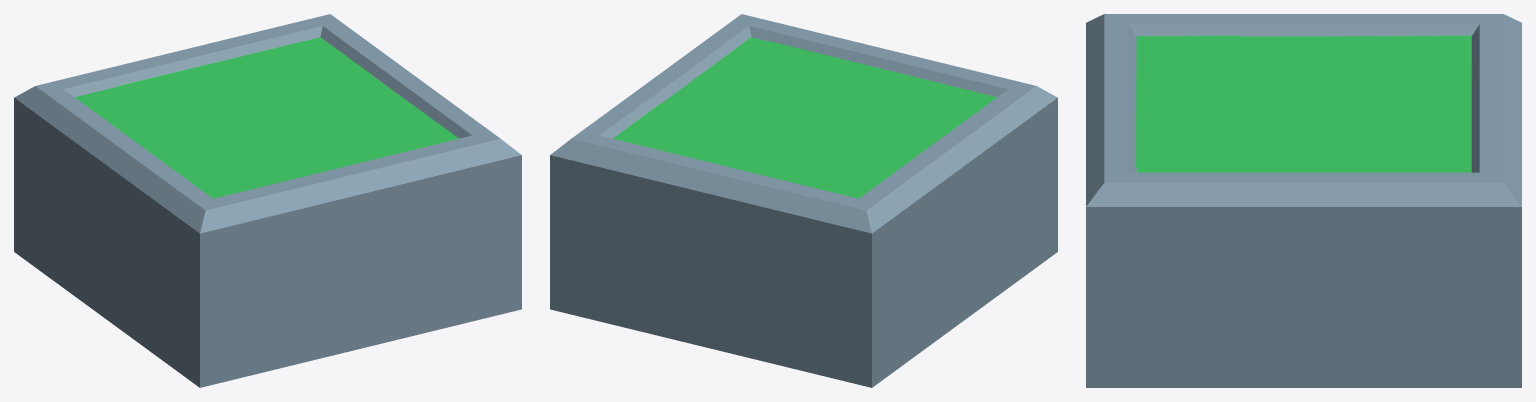
The model's file is BasicTile.fbx.
The picture shows the model from 3 angles, left to right: view 1: azimuth 30°, elevation 25°; view 2: azimuth 150°, elevation 25°; view 3: azimuth 270°, elevation 25°; orthographic projection. The views are drawn at different scales.
Parts seen in each view (by area): view 1: Cube; view 2: Cube; view 3: Cube.
Part boxes in pixels (x1,y1,x2,y2): Cube: [14, 14, 521, 387]; Cube: [550, 14, 1057, 387]; Cube: [1086, 14, 1521, 387].
Size of the model in its own units: 200 by 100 by 200.
Materials: 1 (1 with a texture image).
